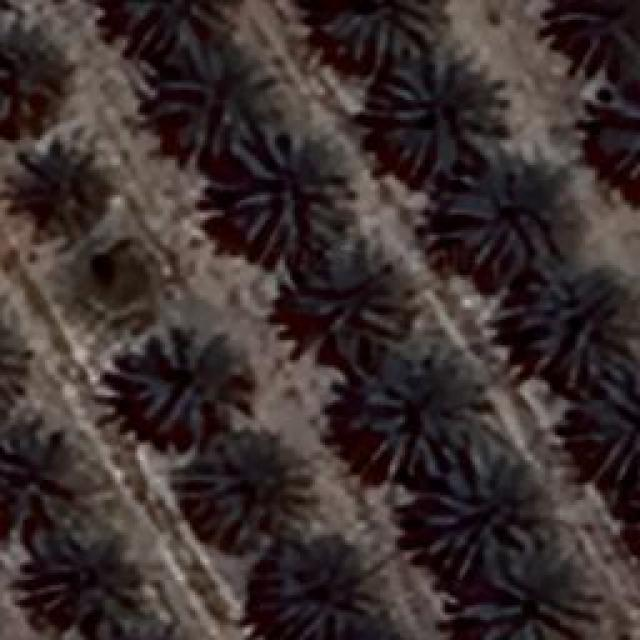PalmTree: (96, 63, 516, 608), (13, 100, 96, 358), (378, 47, 508, 175), (182, 428, 320, 548), (420, 452, 548, 578), (222, 130, 352, 252), (515, 258, 635, 390), (128, 328, 255, 438), (431, 168, 571, 264), (157, 40, 265, 158), (25, 530, 140, 635), (308, 235, 410, 348), (267, 542, 385, 638), (360, 372, 452, 480), (0, 408, 82, 523), (86, 0, 234, 55), (317, 0, 440, 62), (22, 146, 106, 232), (0, 28, 70, 122), (567, 390, 640, 470), (590, 80, 640, 192), (562, 1, 640, 66)
